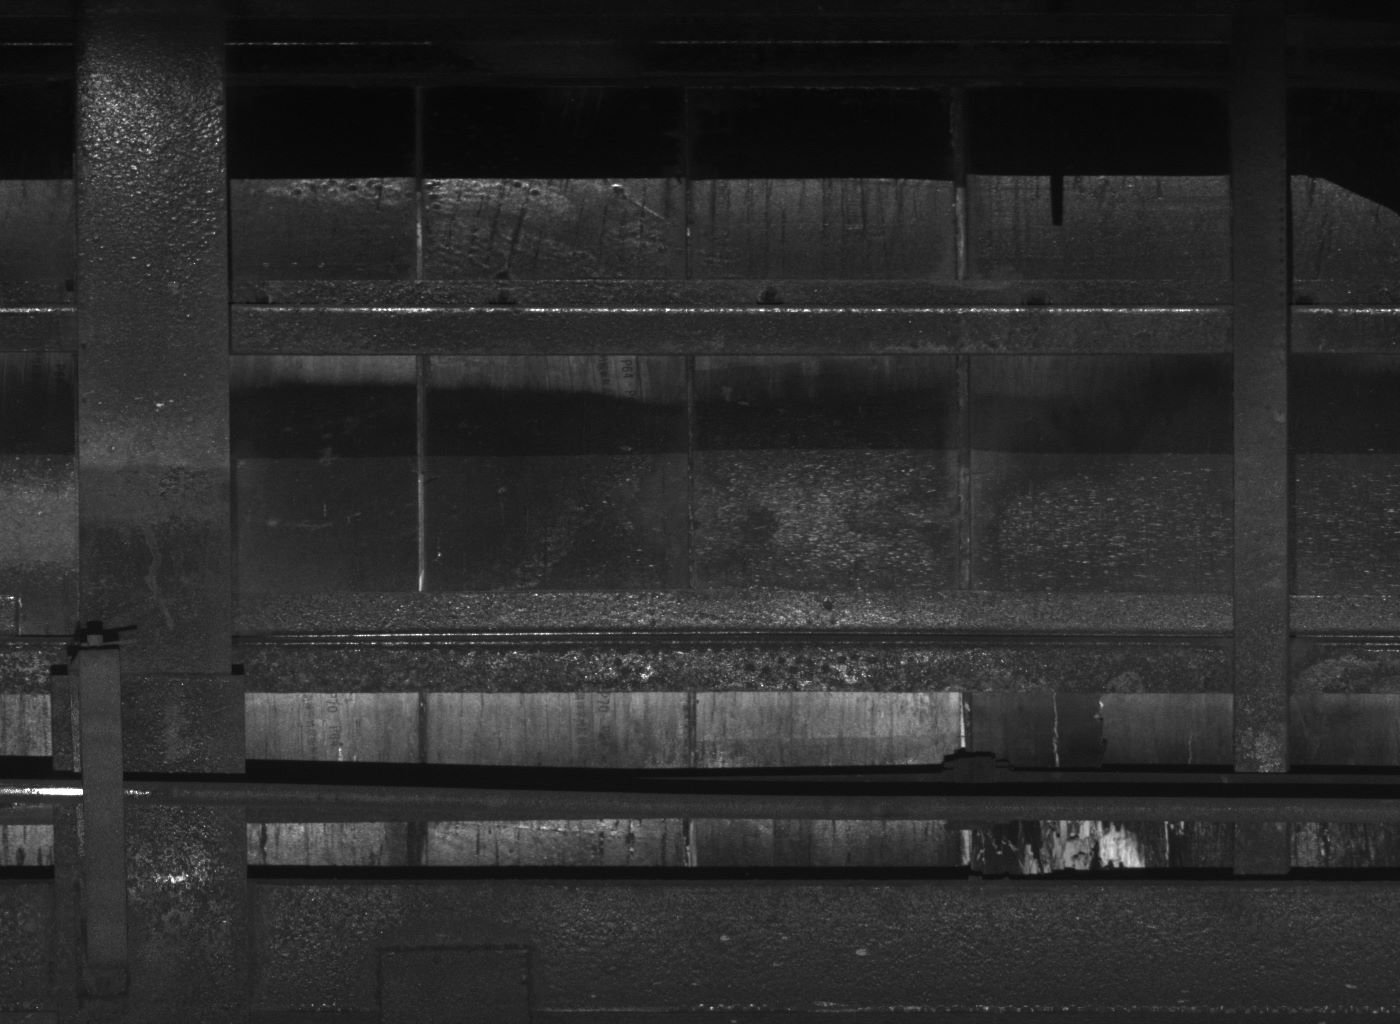normal: (67, 632, 135, 995)
